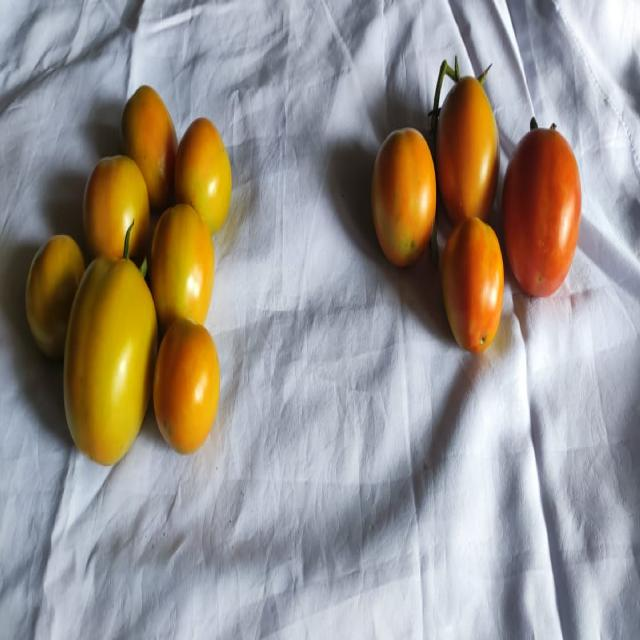ripe tomato: (63, 220, 157, 466), (501, 116, 582, 297), (429, 54, 500, 224), (370, 126, 437, 268), (152, 316, 220, 455), (441, 216, 504, 354), (150, 202, 214, 328), (82, 153, 150, 264), (173, 115, 232, 234), (121, 83, 177, 208)
